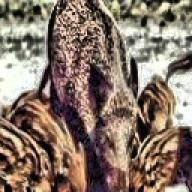boar: (36, 0, 147, 192), (165, 0, 192, 192)
